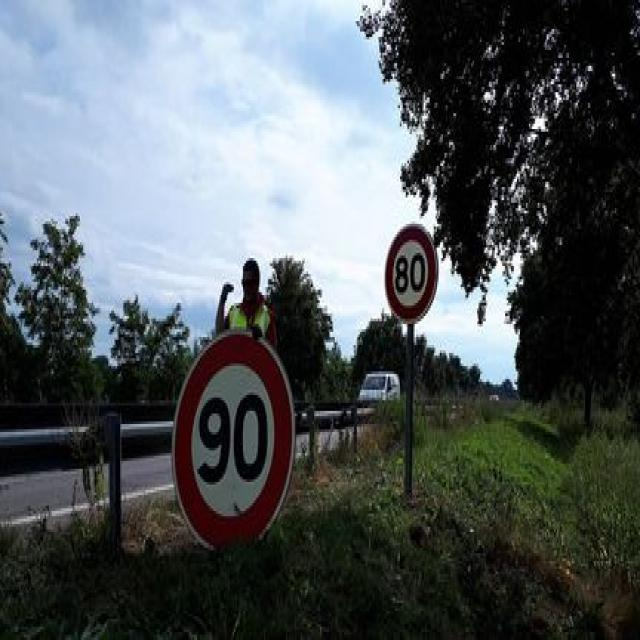speed: (174, 329, 294, 540), (385, 226, 439, 324)
